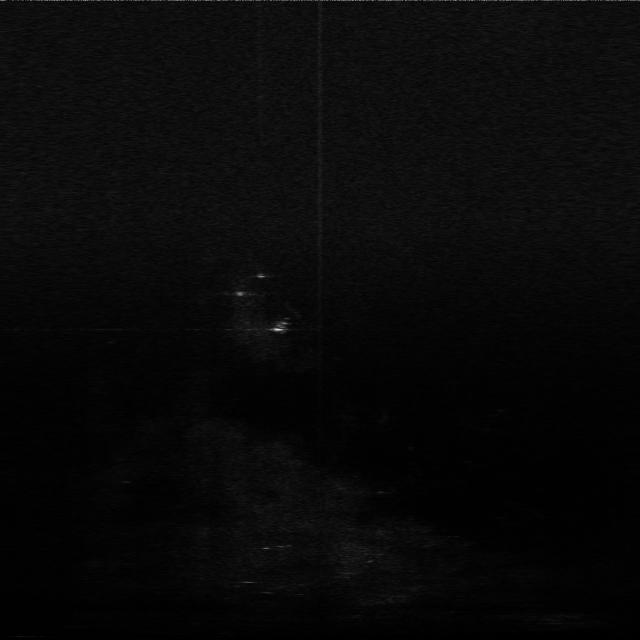rov: (267, 318, 293, 334)
